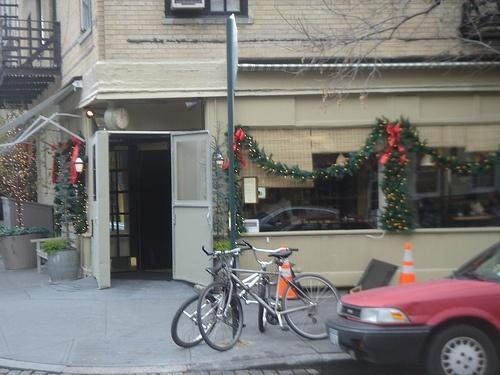bicycle: (196, 245, 345, 354), (171, 238, 302, 350)
car: (325, 240, 500, 375)
